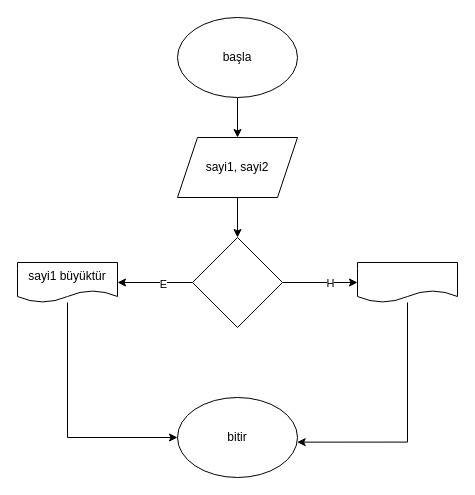
Some shapes in this 475 by 495 pixel diagram are drawn without their labels. Here are the shapes that lost their labels. From the top down, the centre of each, then its label:
At point (237, 282): "sayi1 > sayi2".
At point (407, 282): "sayi2 büyüktür".
